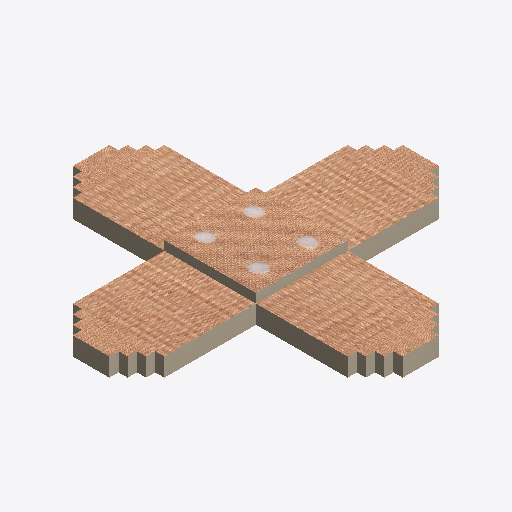
A Minecraft block model of 15 cuboids, rendered isometrically (azimuth 45°, elevation 35.3°) with the resource pack's own textures.
Parts seen in each view (by area): cube (×13).
Boxes of the visible parts, box(x1,y1,x2,y2) form: cube (×13): box(73, 145, 438, 377).
Size of the model in its own units: 3.6 by 0.3 by 3.6.